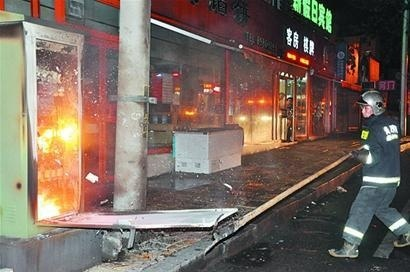fire: (36, 113, 78, 154), (35, 188, 61, 219), (287, 50, 309, 64)
